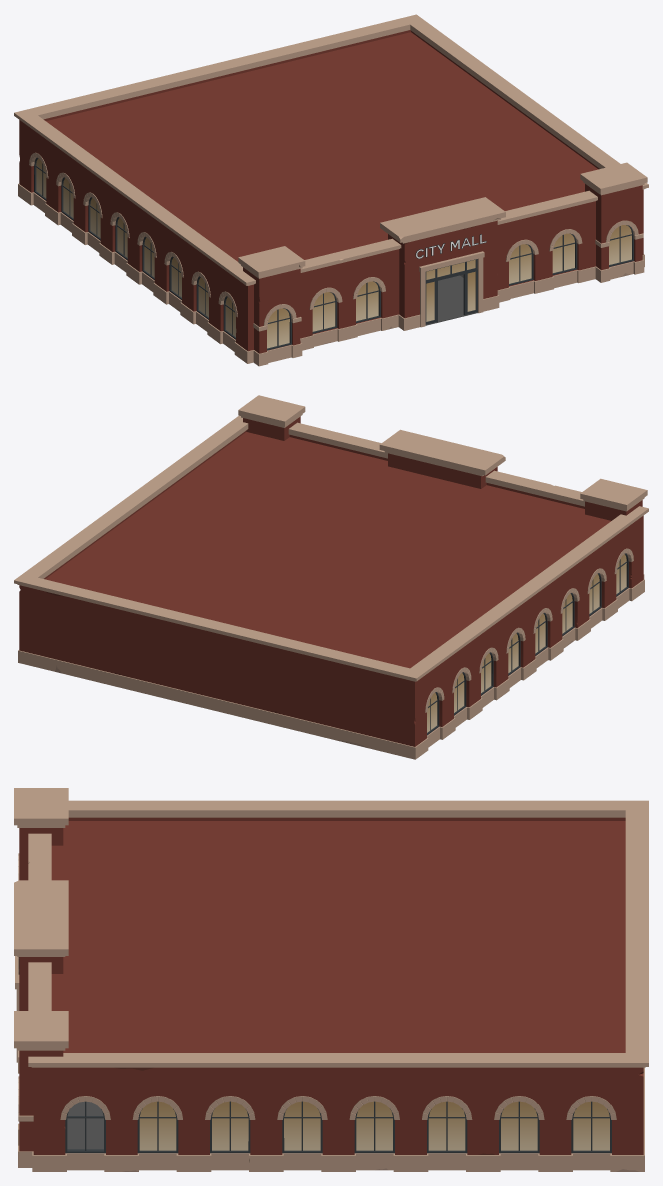
File: SM_Buildings_CityMall_01.fbx
The picture shows the model from 3 angles, top to bottom: view 1: azimuth 30°, elevation 25°; view 2: azimuth 150°, elevation 25°; view 3: azimuth 270°, elevation 25°; orthographic projection. The views are drawn at different scales.
Visible parts, largest first — view 1: SM_Buildings_CityMall_01; view 2: SM_Buildings_CityMall_01; view 3: SM_Buildings_CityMall_01.
Part boxes in pixels (bbox=[...]): SM_Buildings_CityMall_01: bbox=[14, 14, 648, 366]; SM_Buildings_CityMall_01: bbox=[14, 395, 648, 759]; SM_Buildings_CityMall_01: bbox=[14, 788, 648, 1171].
Bounding box in the file's own units: 30.52 × 6.93 × 31.23.
